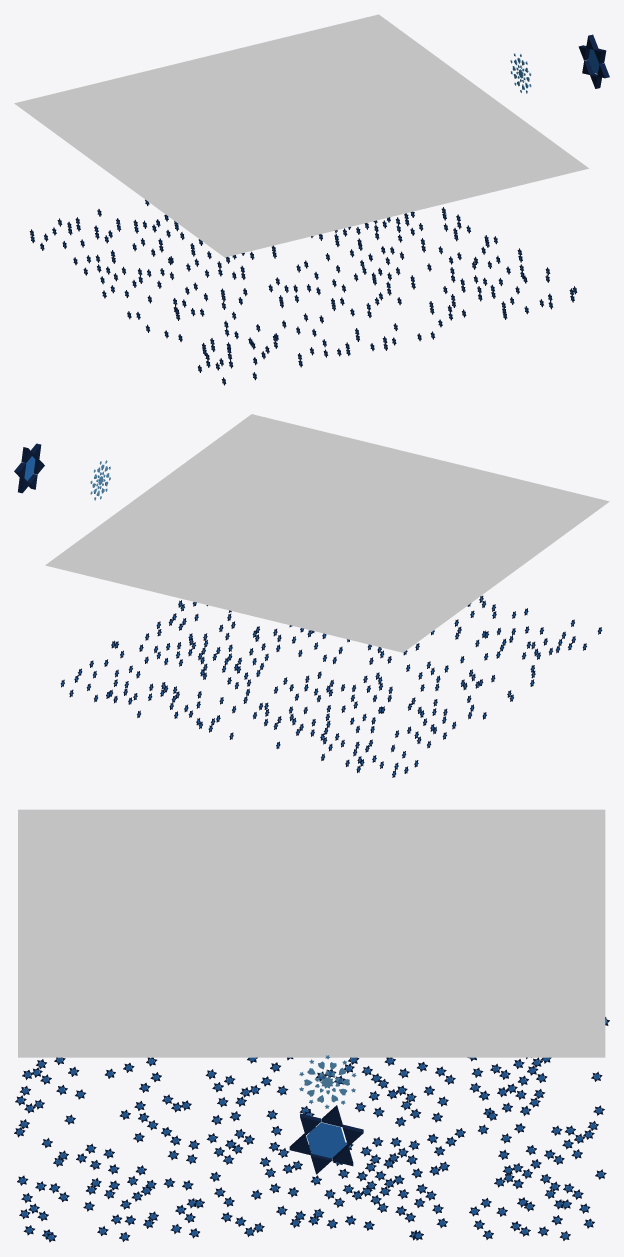
The model's file is FSMparticleanimation.gltf.
3 renders of one model, top to bottom at view 1: azimuth 30°, elevation 25°; view 2: azimuth 150°, elevation 25°; view 3: azimuth 270°, elevation 25°, orthographic. The views are drawn at different scales.
Parts seen in each view (by area): view 1: Plane, sekil; view 2: Plane, sekil; view 3: Plane, sekil, desen2.
Part boxes in pixels (<box>): Plane: <box>14,14,588,257</box>; sekil: <box>578,34,609,88</box>; Plane: <box>45,414,609,652</box>; sekil: <box>14,443,44,493</box>; Plane: <box>18,809,605,1057</box>; sekil: <box>289,1105,363,1174</box>; desen2: <box>299,1055,356,1108</box>.
Bounding box in the file's own units: 2.65 × 0.8195 × 2.03.
